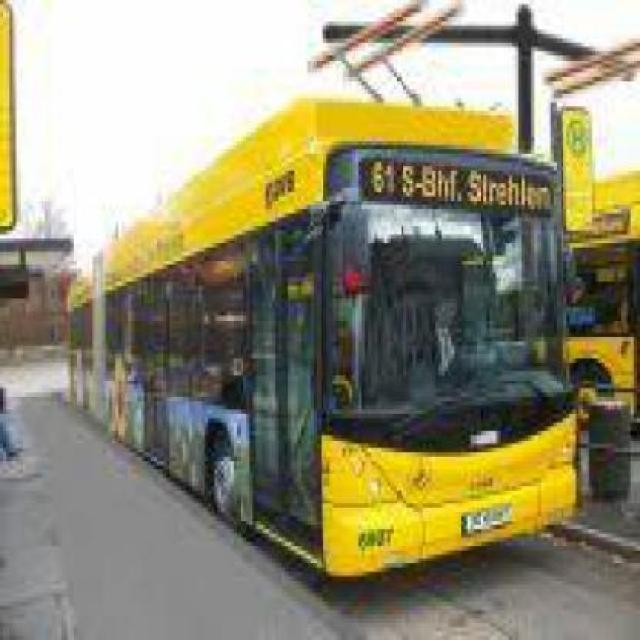bus: (69, 98, 582, 579)
